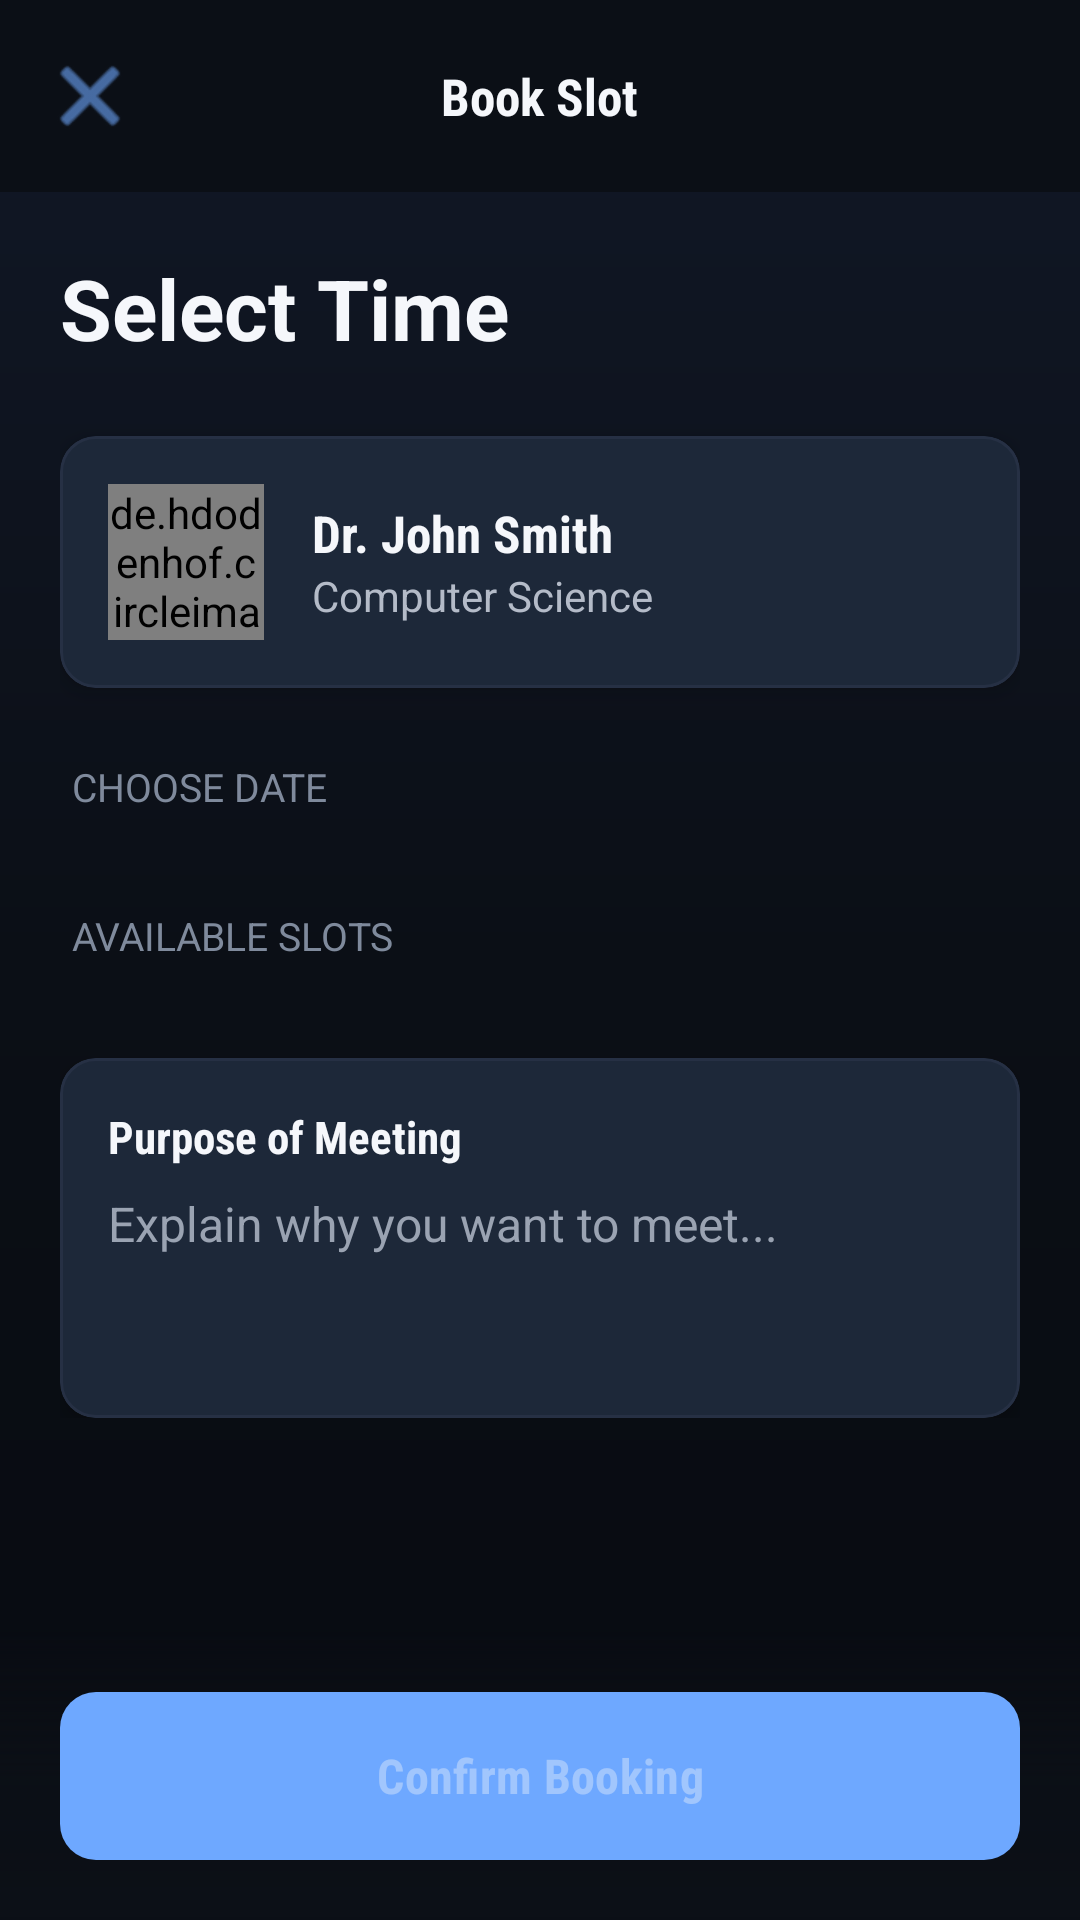

Icon bounding boxes for this 1080px×1920px phone screenshot, format (x1, y1, x2, y2):
close clear cancel: (60, 66, 120, 126)
